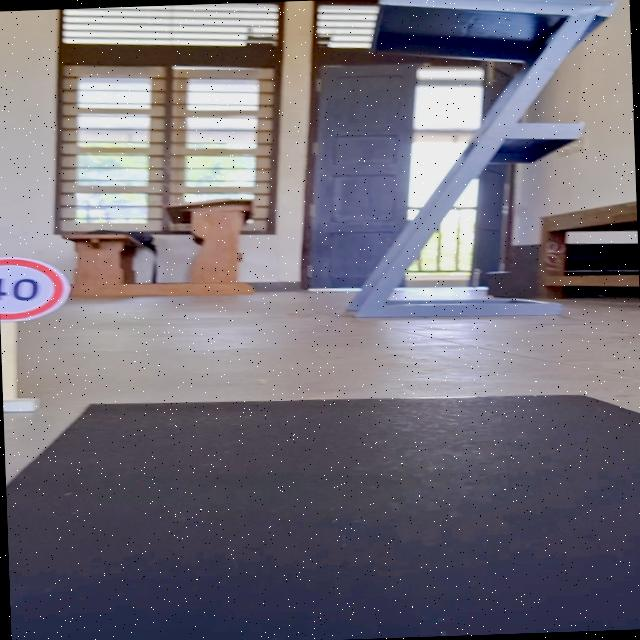Speed40: (0, 252, 72, 325)
